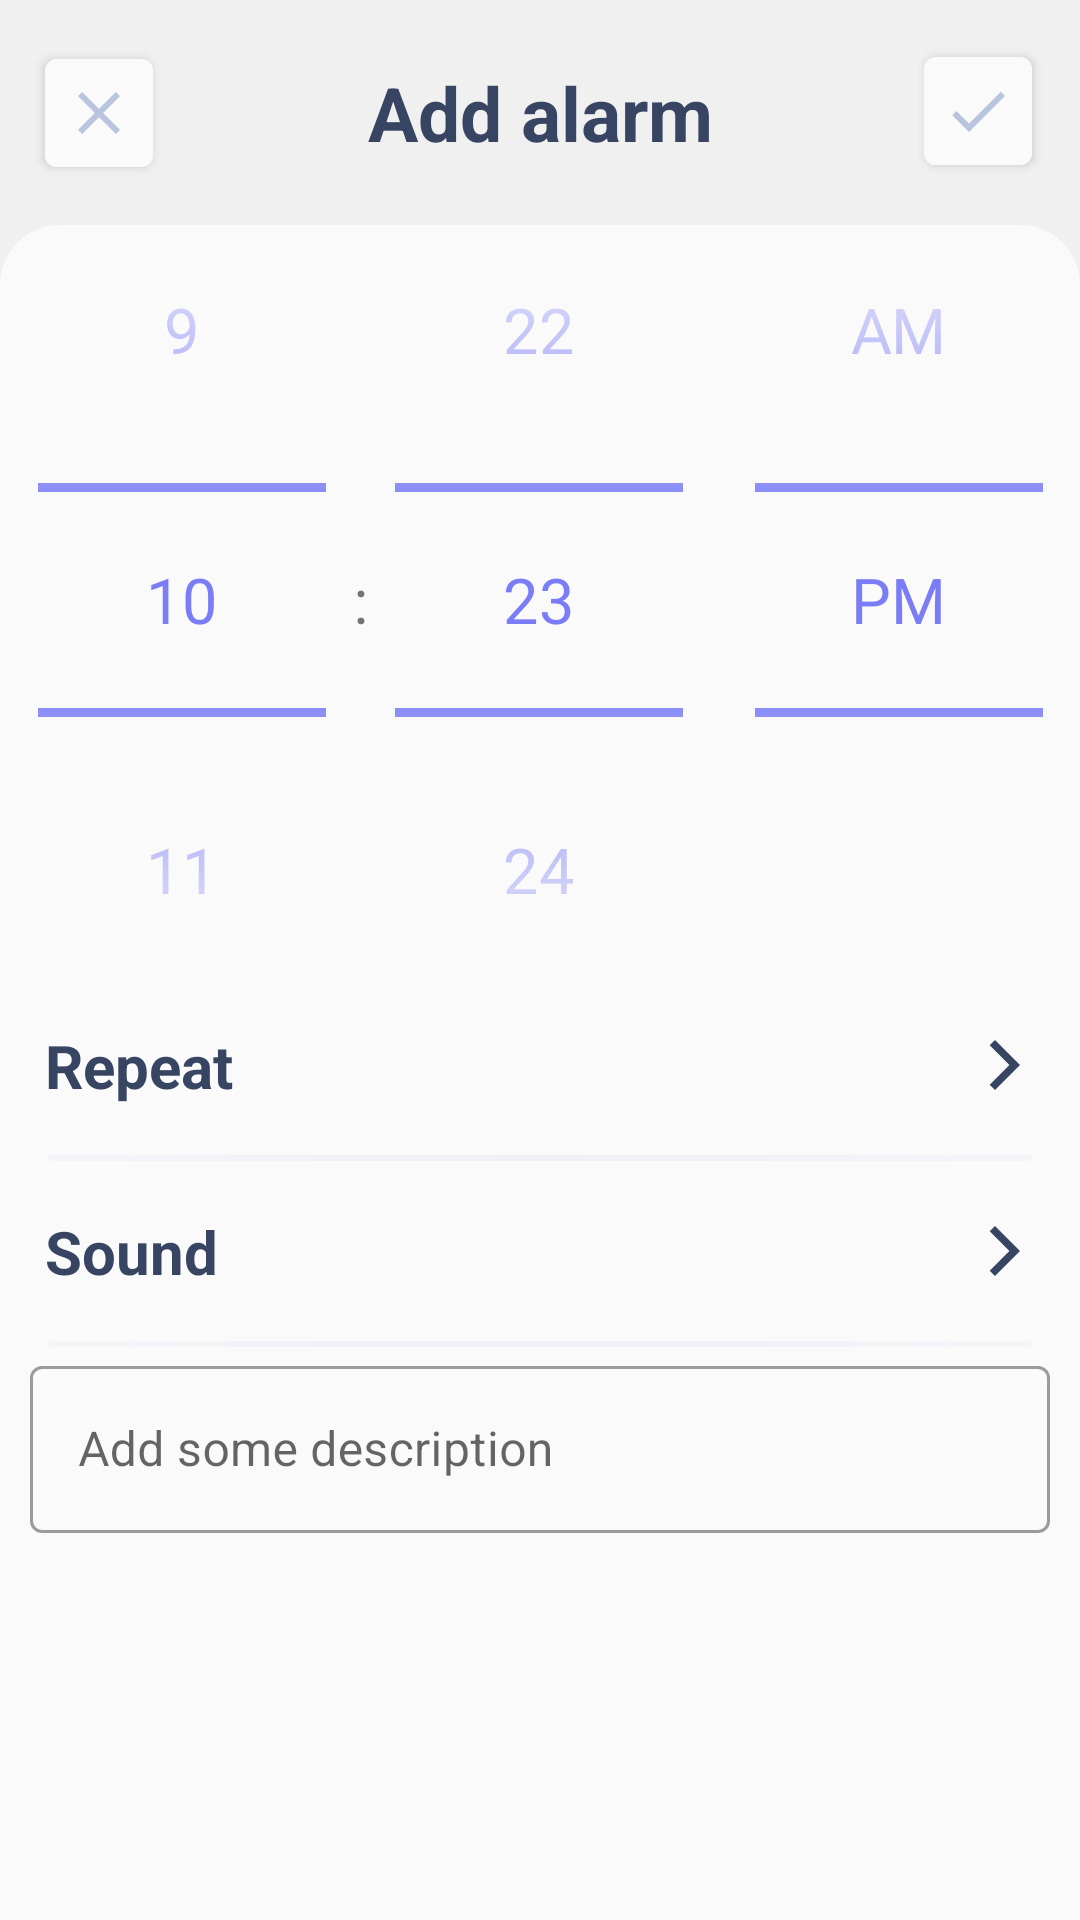

Screen size 1080 × 1920. Icon name, then its center in pixels as point (x, y):
close: point (99, 113)
done: point (978, 111)
